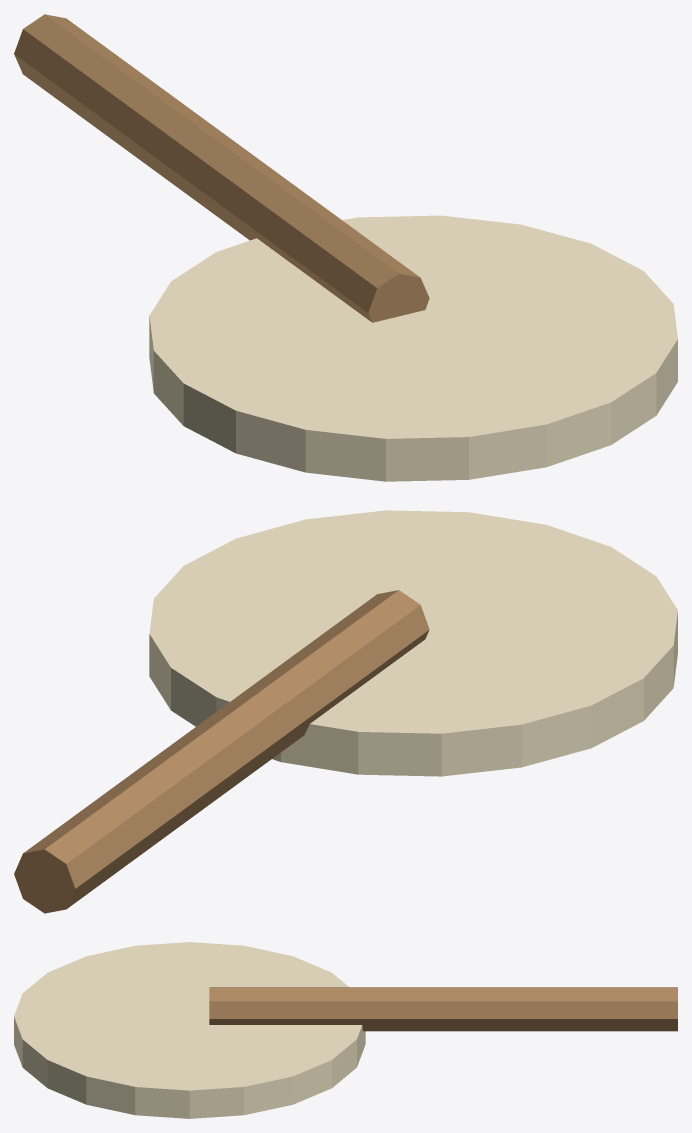
Rendered from moving_target_proxy.glb.
The picture shows the model from 3 angles, top to bottom: view 1: azimuth 30°, elevation 25°; view 2: azimuth 150°, elevation 25°; view 3: azimuth 270°, elevation 25°; orthographic projection. The views are drawn at different scales.
Parts seen in each view (by area): view 1: target_disc, stand; view 2: target_disc, stand; view 3: target_disc, stand.
Boxes of the visible parts, x1,y1,x2,y2 form: target_disc: (149, 215, 677, 481); stand: (14, 14, 429, 322); target_disc: (149, 510, 677, 776); stand: (14, 590, 429, 913); target_disc: (14, 942, 365, 1118); stand: (209, 987, 677, 1031).
Bounding box in the file's own units: 0.9 × 0.24 × 1.7.
